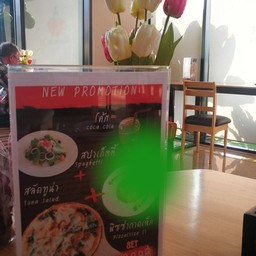focus: (86, 116, 191, 220)
